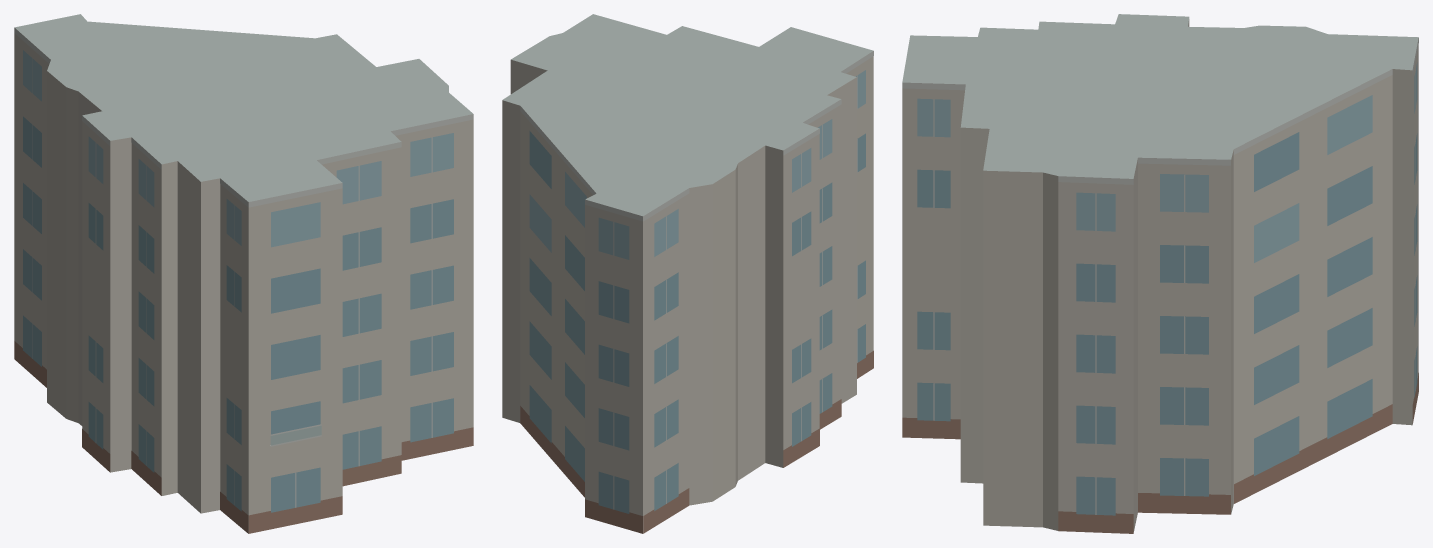
The model's file is survey-upis-32721107.glb.
3 renders of one model, left to right at view 1: azimuth 30°, elevation 25°; view 2: azimuth 150°, elevation 25°; view 3: azimuth 270°, elevation 25°, orthographic. The views are drawn at different scales.
Visible parts, largest first — view 1: survey-upis-32721107.tmp; view 2: survey-upis-32721107.tmp; view 3: survey-upis-32721107.tmp.
Boxes of the visible parts, x1,y1,x2,y2 form: survey-upis-32721107.tmp: (14, 14, 473, 533); survey-upis-32721107.tmp: (502, 14, 873, 533); survey-upis-32721107.tmp: (902, 14, 1418, 533).
Bounding box in the file's own units: 14.66 × 14.7 × 19.4.
